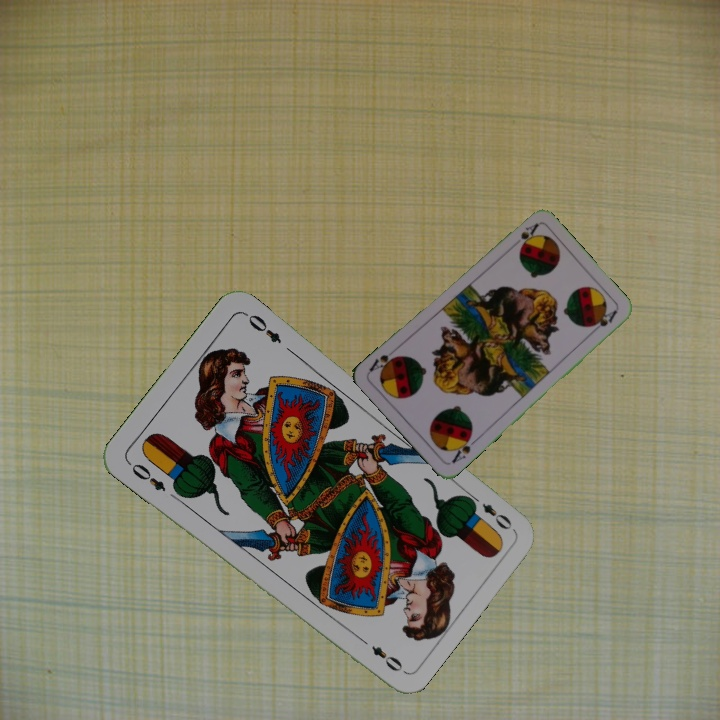EO: (465, 490, 515, 533), (123, 458, 169, 494)
SA: (447, 430, 480, 466), (517, 219, 541, 249)
